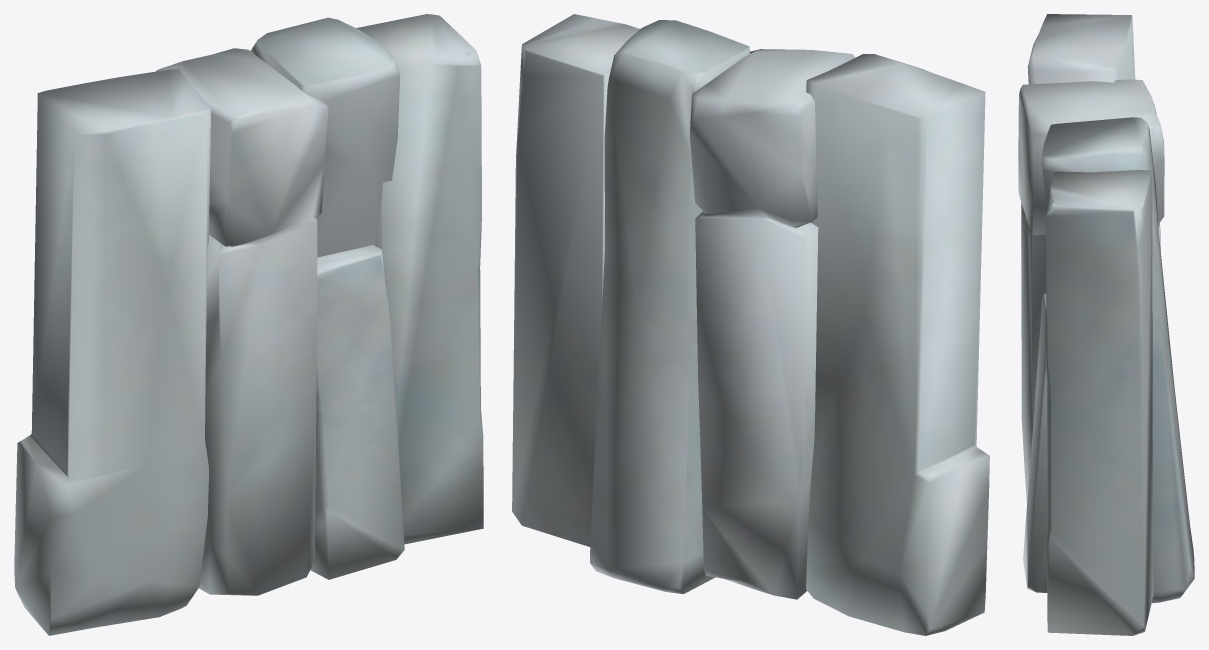
Rendered from P_CubicCliff02.obj.
3 views of the same model, side by side, from view 1: azimuth 30°, elevation 25°; view 2: azimuth 150°, elevation 25°; view 3: azimuth 270°, elevation 25° (orthographic). The views are drawn at different scales.
Size of the model in its own units: 18.58 by 21.05 by 7.37.
